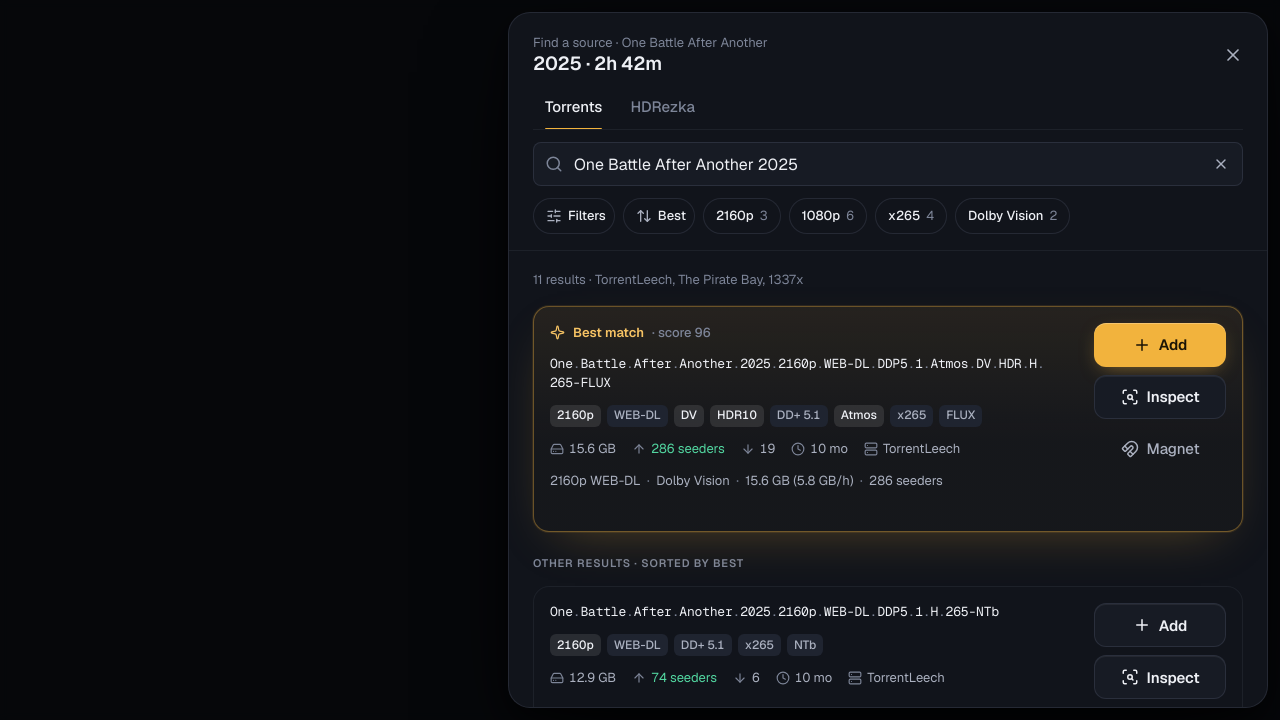
Test: TorrentSearchSheet › says what the quality profile hid when nothing else is left
The width and height of the screenshot is (1280, 720).
Replace the text in the search field named "Search releases" with "HDCAM" at (888, 164), box [533,142,1243,186]
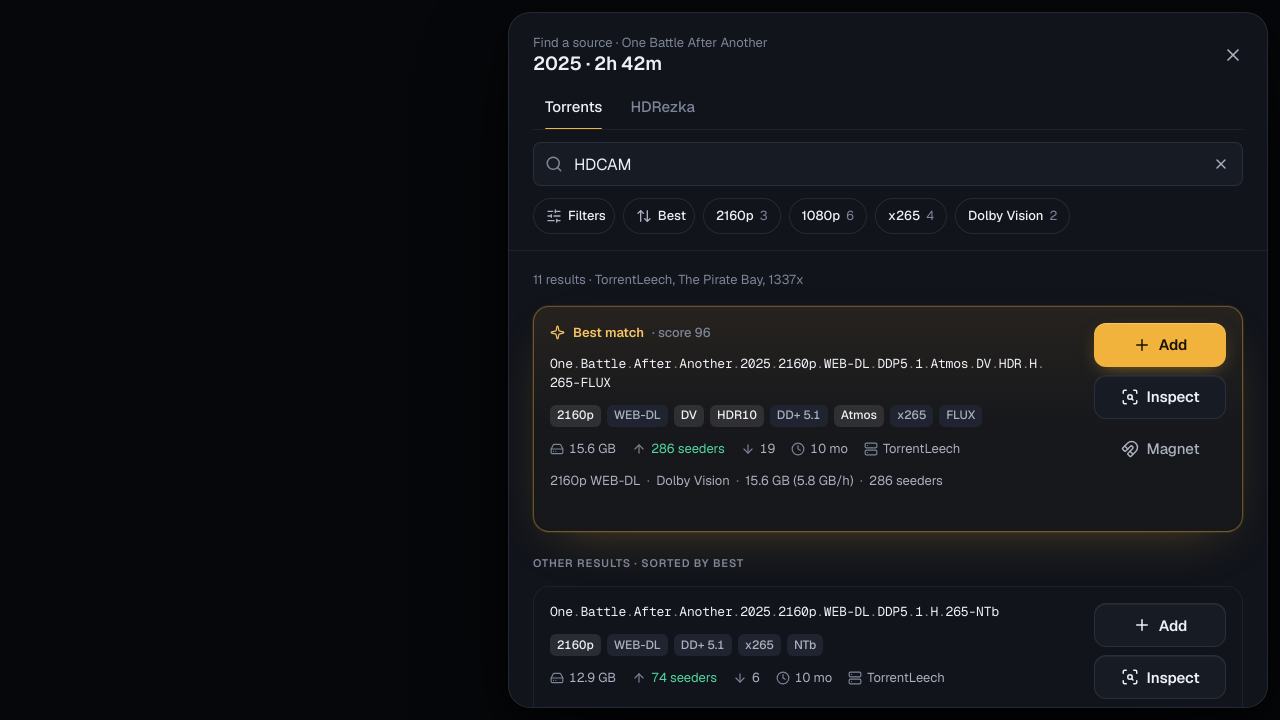
Submit the form from the search field named "Search releases", box [533,142,1243,186]
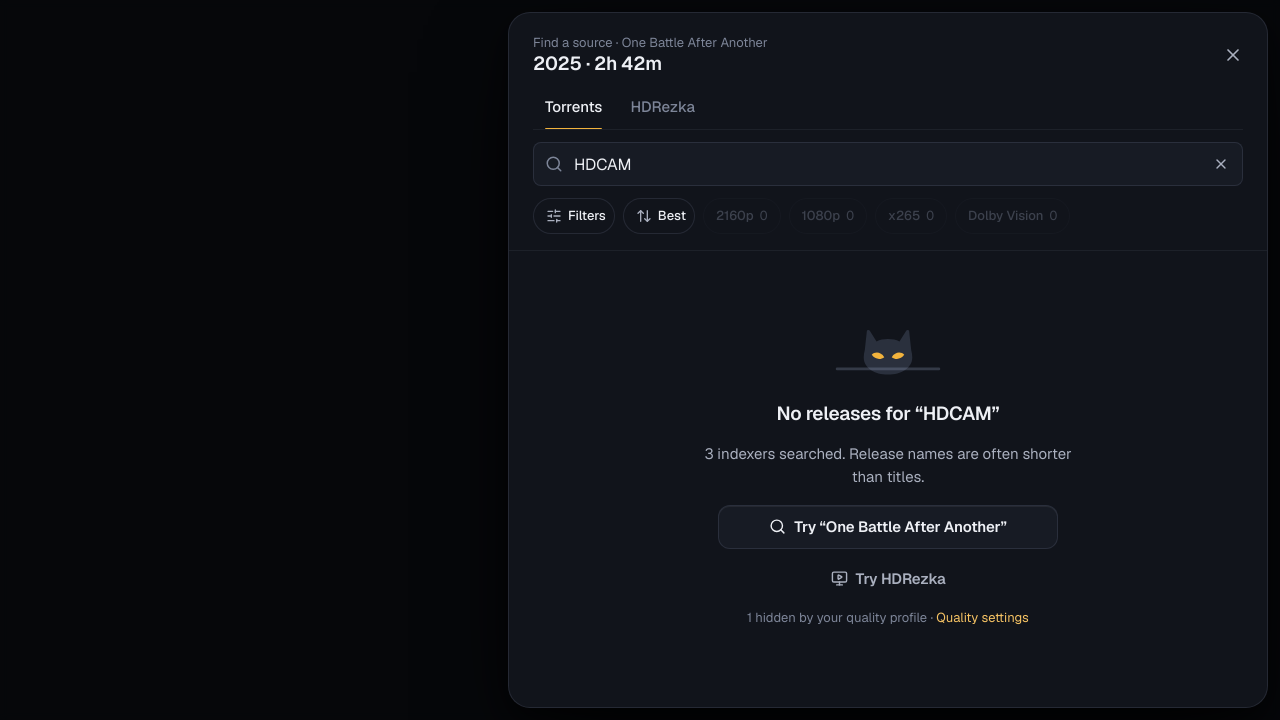
Expected: the heading "No releases for “HDCAM”" is shown, [776,402,999,426]
Expected: the text "1 hidden by your quality profile · Quality settings" is shown, [747,609,1029,626]
